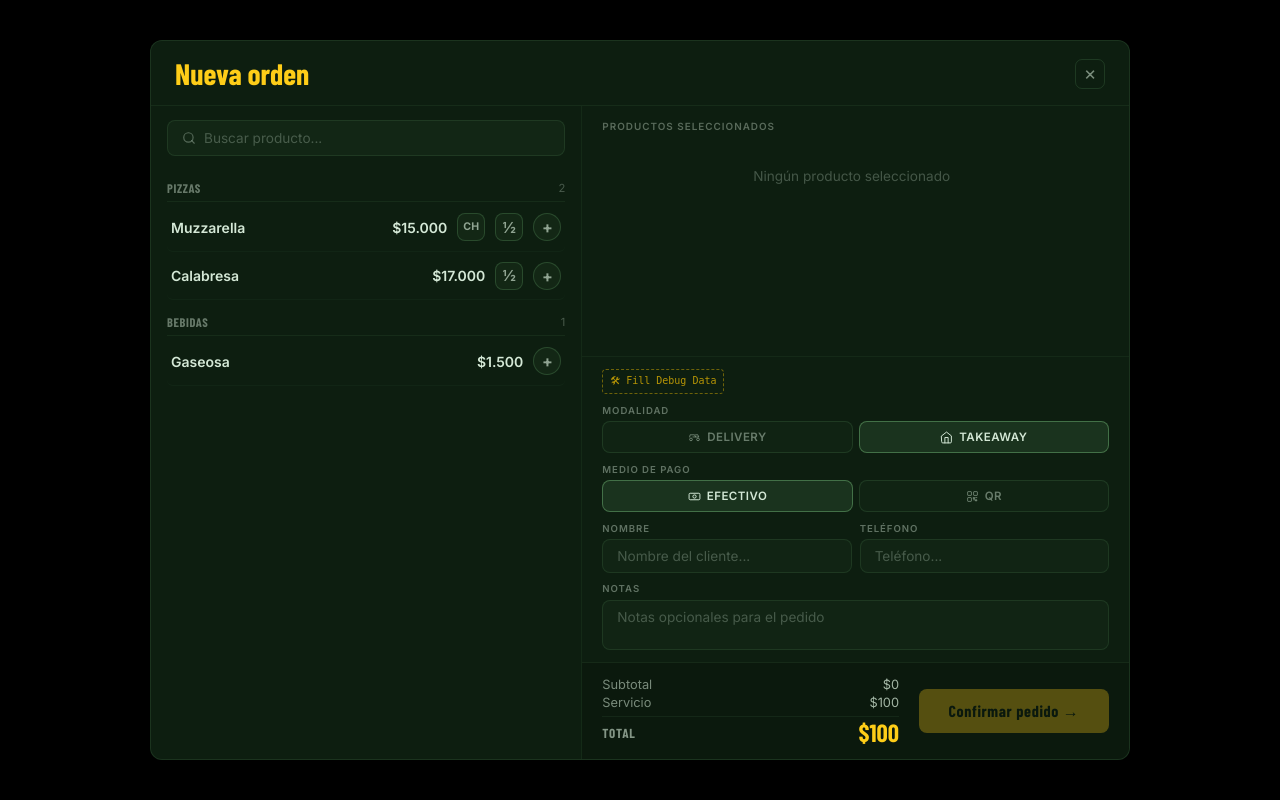
NewOrderModal · tamaño chica (US-SIZE-F-03) › el ítem entra al carrito con el nombre y el precio del tamaño
This screenshot has width=1280, height=800.
Expected: the text "Muzzarella" is shown, x1=171 y1=219 x2=245 y2=236
Click the button "CH": (471, 227) x1=457 y1=213 x2=485 y2=241
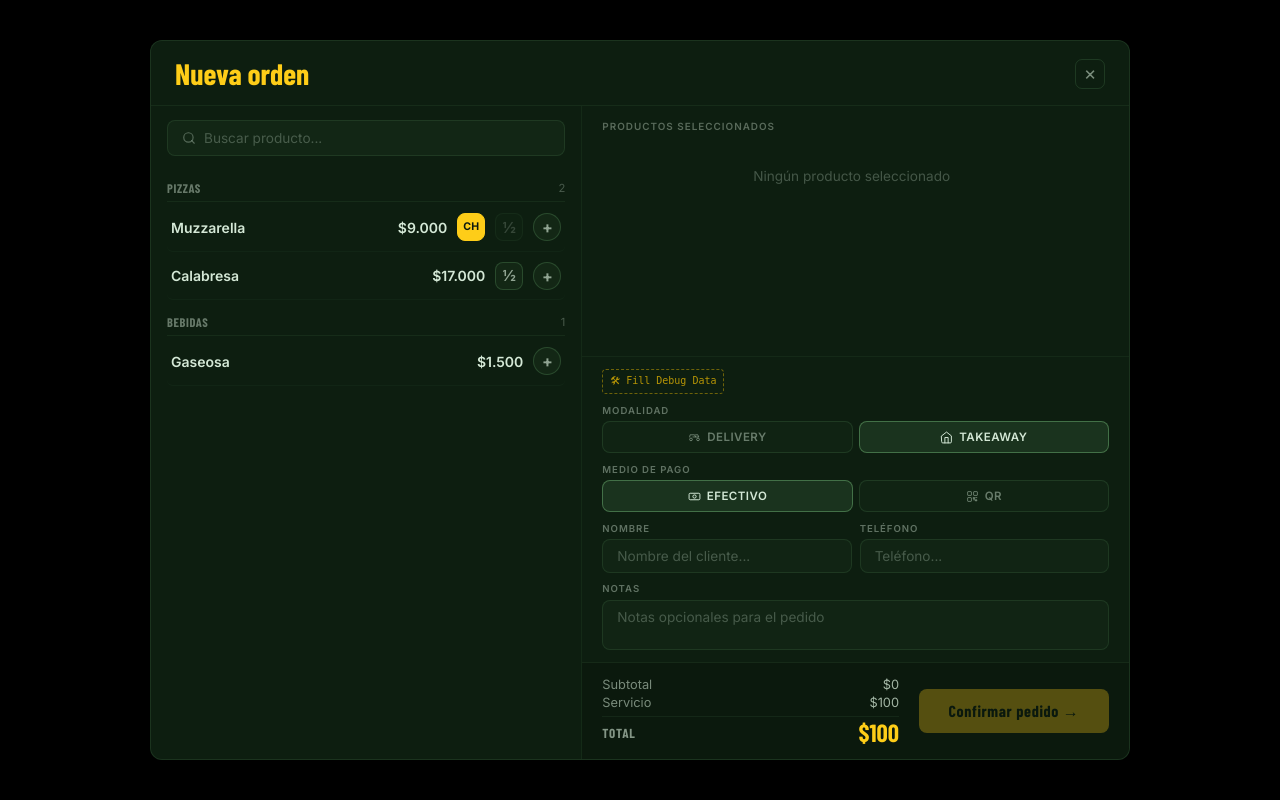
Click the text "Muzzarella": (366, 228) x1=167 y1=204 x2=565 y2=252
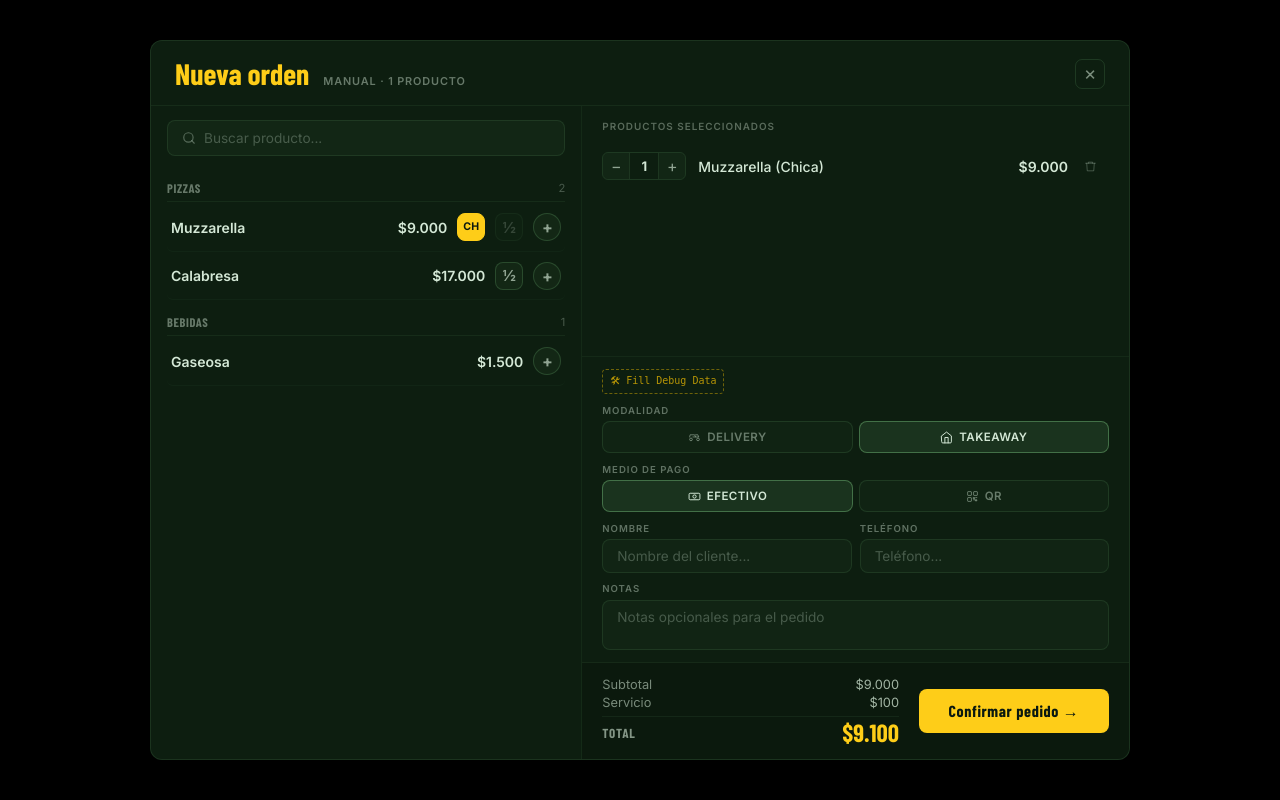
Expected: the text "$9.000" in the row of "Muzzarella (Chica)" is shown, x1=1018 y1=158 x2=1068 y2=174
